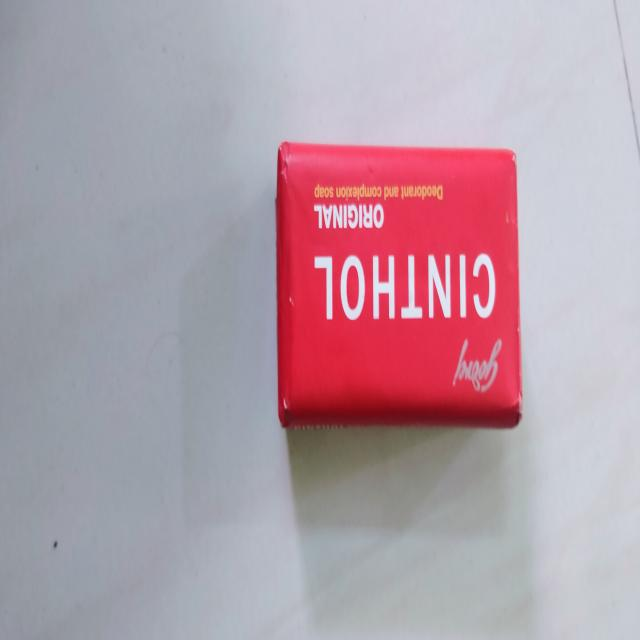soap: (278, 140, 523, 433)
